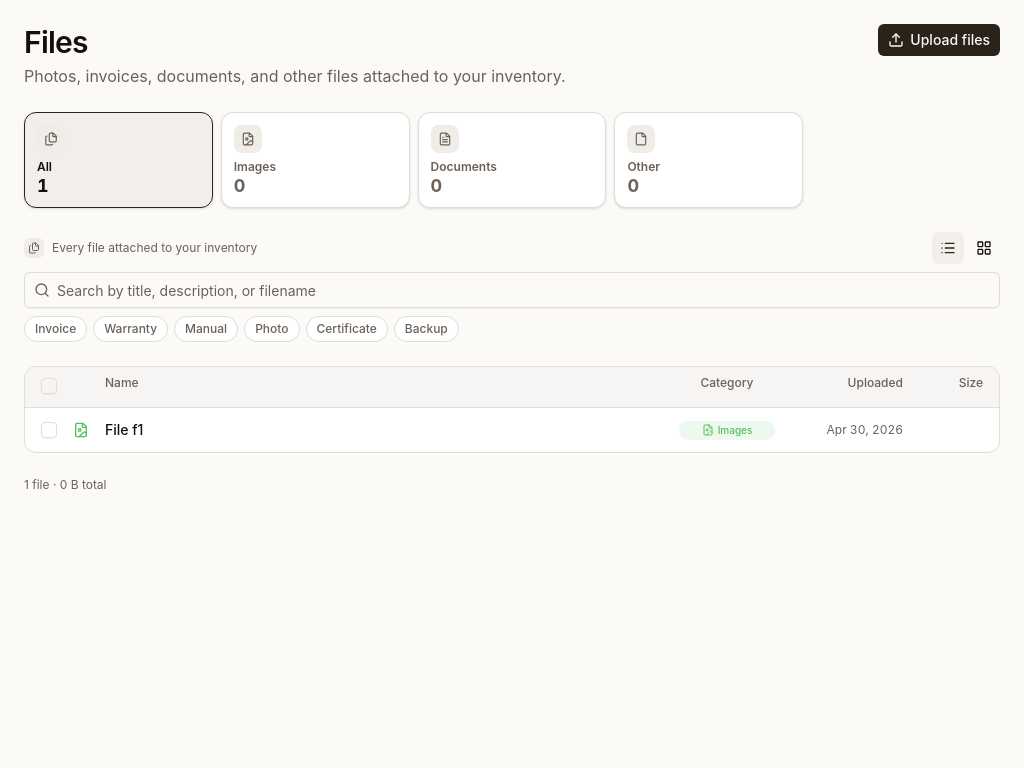
it: <FilesListPage /> › opens the bulk-delete bar when a list row checkbox is selected
Check: the element with test id "file-row-f1" is shown, box [25,408,999,452]
Click the checkbox named "select file f1": (49, 430) [41,422,57,438]
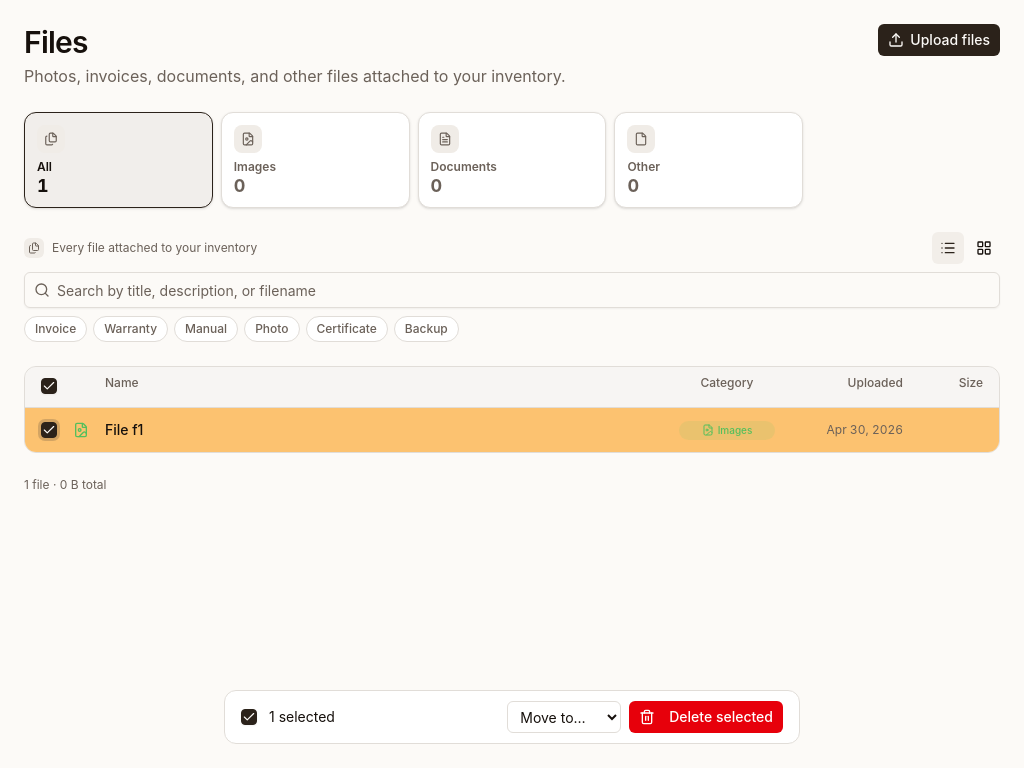
Check: the element with test id "files-bulk-bar" is shown, box [224,690,800,744]
